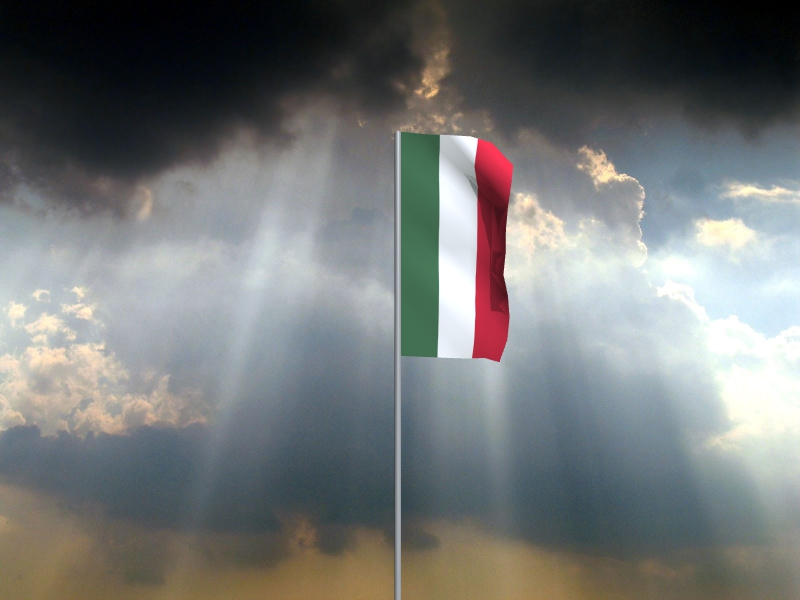hu: (401, 133, 514, 364)
